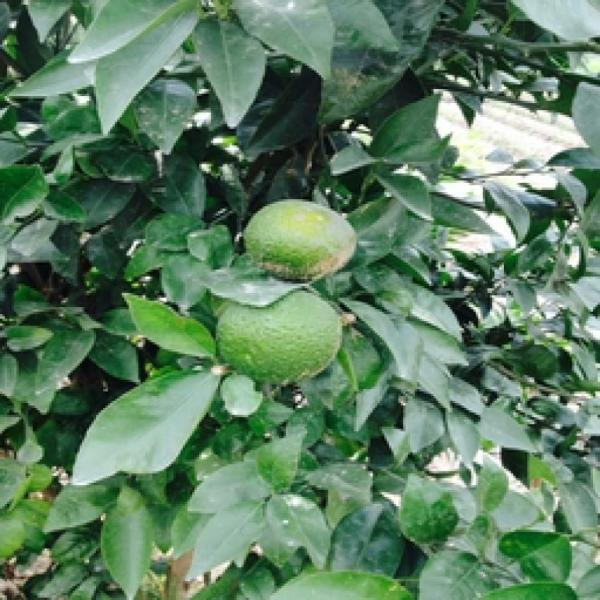Greening: (213, 274, 352, 384), (232, 193, 372, 286)
